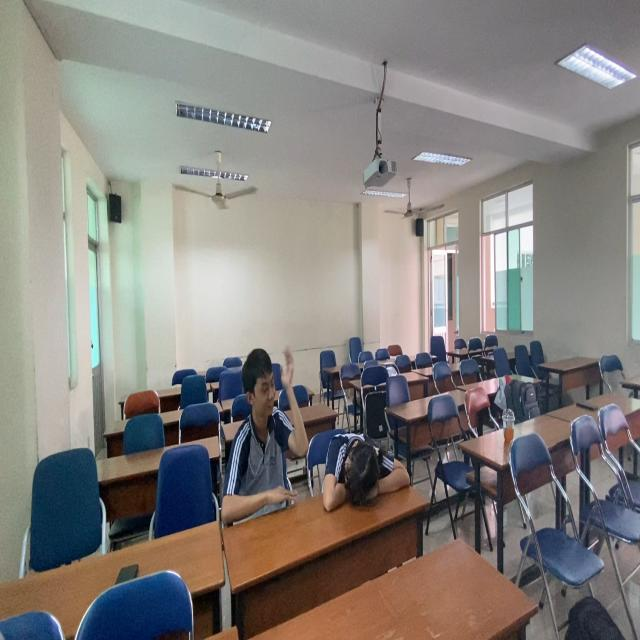raise_hand: (217, 338, 310, 513)
sleep: (319, 425, 416, 517)
